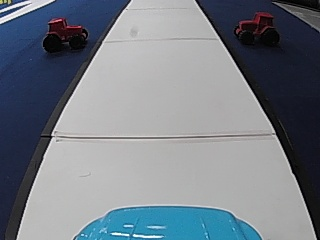tractor: (41, 14, 89, 53), (231, 9, 281, 46)
